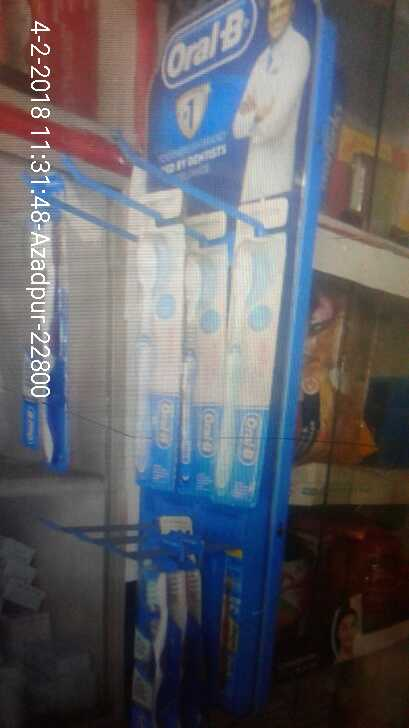oralb: (21, 183, 80, 463), (135, 558, 211, 728), (216, 231, 255, 518), (181, 225, 216, 506), (128, 205, 160, 493)
